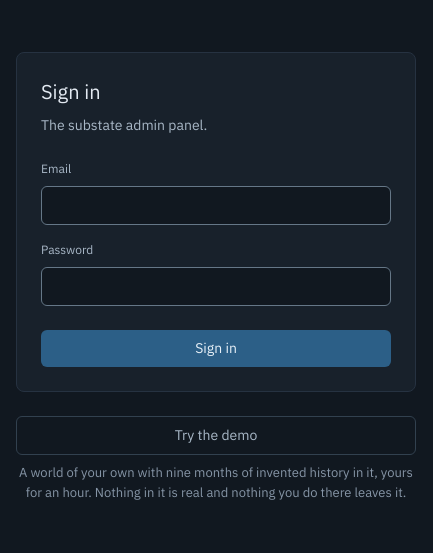
Test case: the sentence a refusal produces › does not blame the password when the service was never reached
Type "operator@example.com" into the field labelled "Email" at (216, 206), box top-left (41, 186), bottom-right (391, 225)
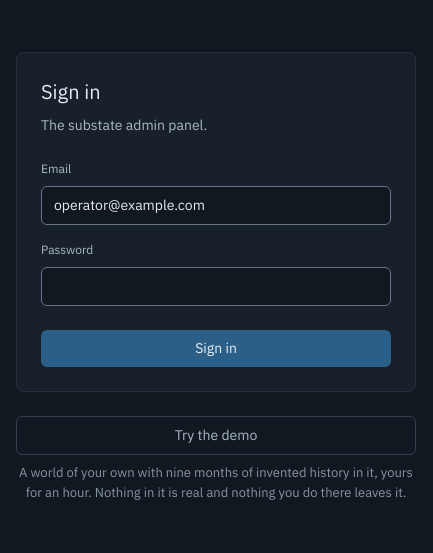
Type "correct horse battery staple" into the password field labelled "Password" at (216, 286), box top-left (41, 267), bottom-right (391, 306)
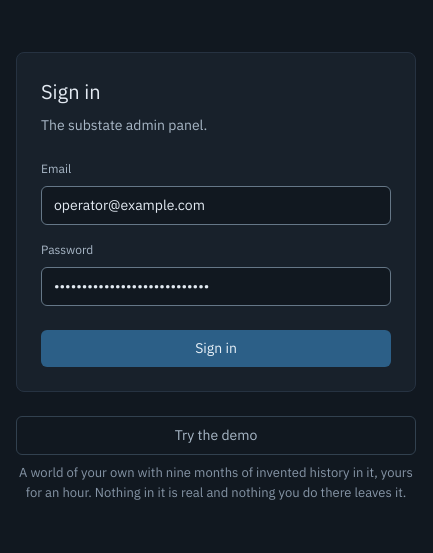
Submit the form, box top-left (16, 52), bottom-right (416, 392)
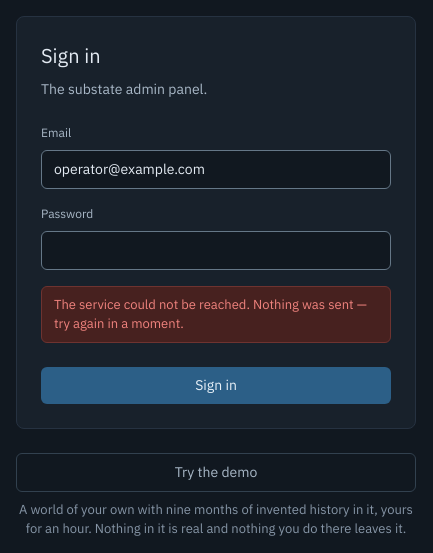
Expected: the message "The service could not be reached. Nothing was sent — try again in a moment." is shown, top-left (41, 286), bottom-right (391, 342)
